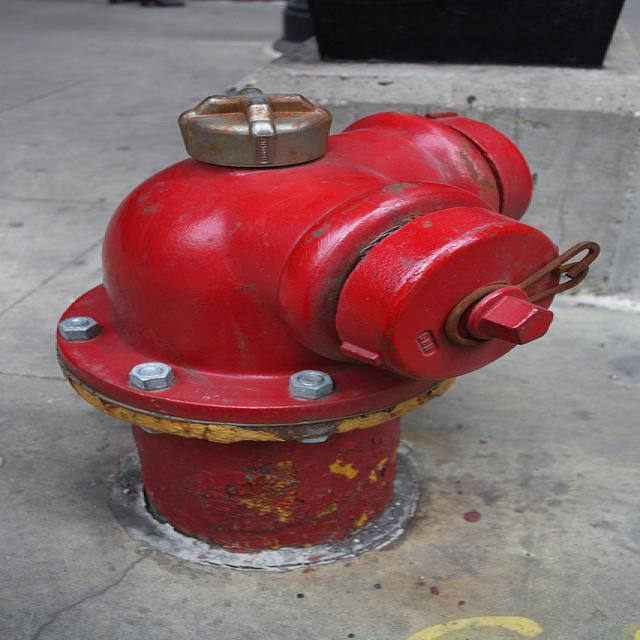fire_hydrant: (44, 81, 596, 556)
